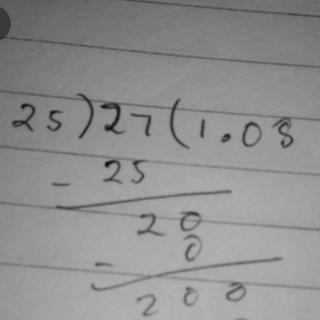.: (219, 127, 233, 145)
0: (177, 209, 207, 233), (183, 235, 207, 261), (242, 121, 263, 148), (227, 280, 248, 303), (183, 287, 205, 307)
1: (199, 113, 210, 140)
2: (12, 102, 37, 135), (101, 155, 126, 188), (101, 100, 124, 134), (138, 213, 161, 238), (136, 294, 161, 317)
5: (44, 104, 64, 134), (131, 158, 148, 187)
7: (132, 109, 155, 138)
8: (274, 115, 294, 148)
